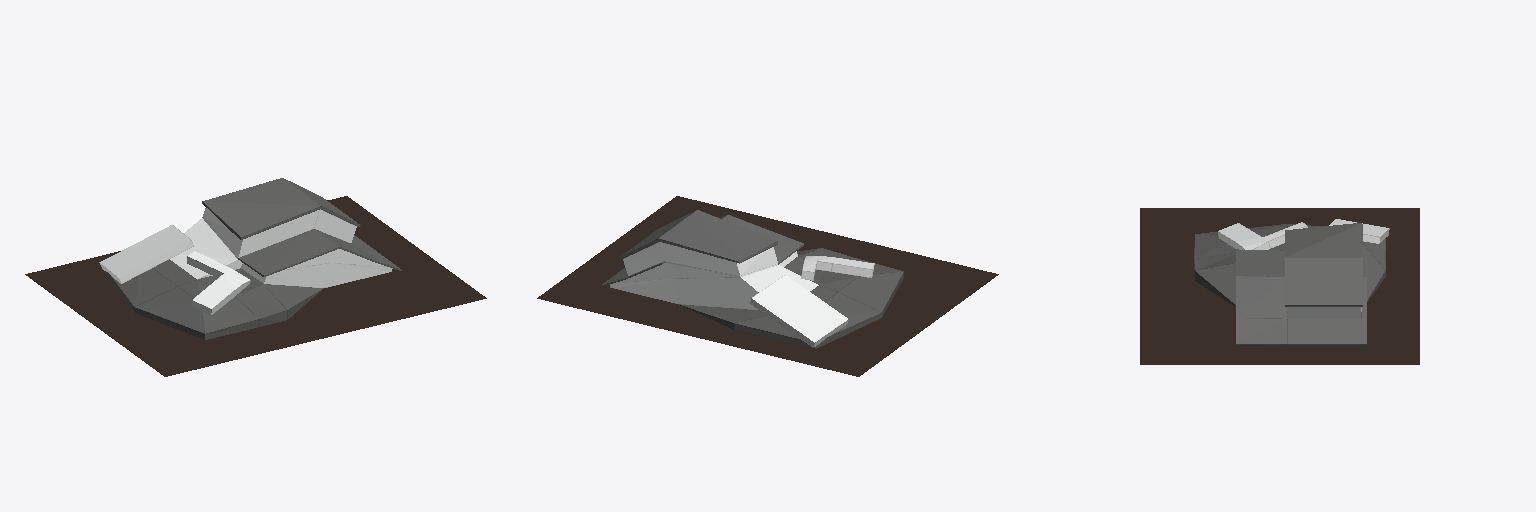
3 views of the same model, side by side, from view 1: azimuth 30°, elevation 25°; view 2: azimuth 150°, elevation 25°; view 3: azimuth 270°, elevation 25° (orthographic).
Parts seen in each view (by area): view 1: Plane; view 2: Plane; view 3: Plane.
Boxes of the visible parts, <box> form: Plane: <box>25,178,486,376</box>; Plane: <box>537,196,998,376</box>; Plane: <box>1140,208,1419,364</box>.
Bounding box in the file's own units: 24.94 × 4.67 × 18.82.
Materials: 1 (1 with a texture image).